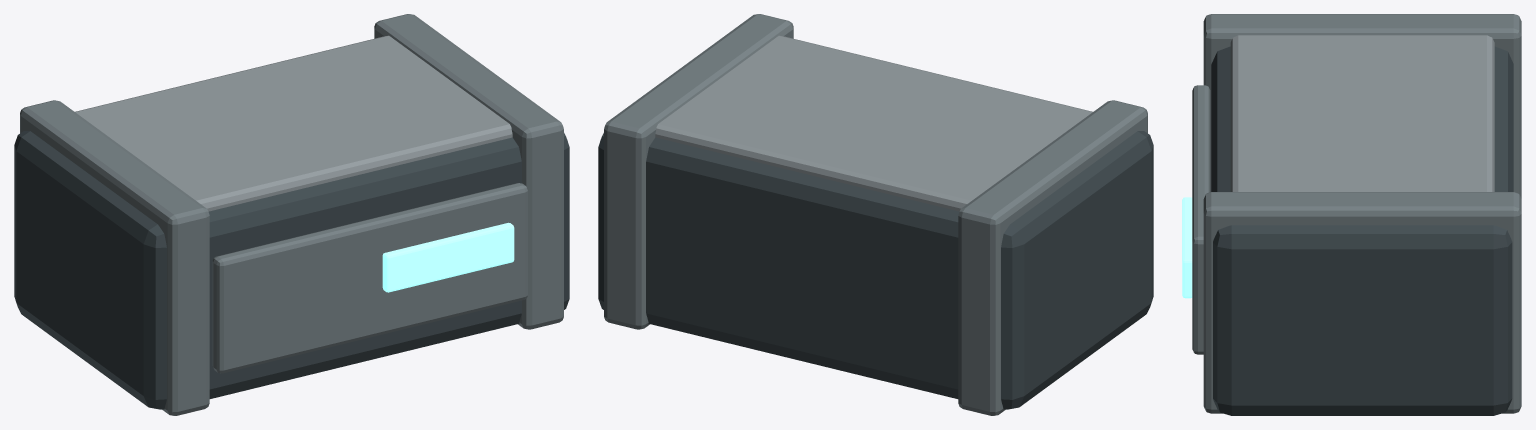
File: SupplyCrate_A.fbx
3 renders of one model, left to right at view 1: azimuth 30°, elevation 25°; view 2: azimuth 150°, elevation 25°; view 3: azimuth 270°, elevation 25°, orthographic. The views are drawn at different scales.
Parts seen in each view (by area): view 1: Crate Shell, Crate Lid, Crate Front Panel, Crate Corner Armor, Crate Corner Armor.001, Crate Status Screen; view 2: Crate Shell, Crate Lid, Crate Corner Armor, Crate Corner Armor.001; view 3: Crate Shell, Crate Lid, Crate Corner Armor.001, Crate Corner Armor, Crate Front Panel, Crate Status Screen.
Part boxes in pixels (x1,y1,x2,y2): Crate Shell: (14,131,569,409); Crate Lid: (75,35,512,211); Crate Front Panel: (212,183,527,373); Crate Corner Armor: (20,100,209,415); Crate Corner Armor.001: (374,14,563,329); Crate Status Screen: (382,222,514,292); Crate Shell: (598,131,1153,409); Crate Lid: (655,35,1092,211); Crate Corner Armor: (958,100,1147,415); Crate Corner Armor.001: (604,14,793,329); Crate Shell: (1211,46,1513,415); Crate Lid: (1230,35,1494,191); Crate Corner Armor.001: (1203,192,1521,413); Crate Corner Armor: (1203,14,1521,198); Crate Front Panel: (1192,85,1210,354); Crate Status Screen: (1182,197,1192,298).
Size of the model in its own units: 2.25 by 1.02 by 1.52.
